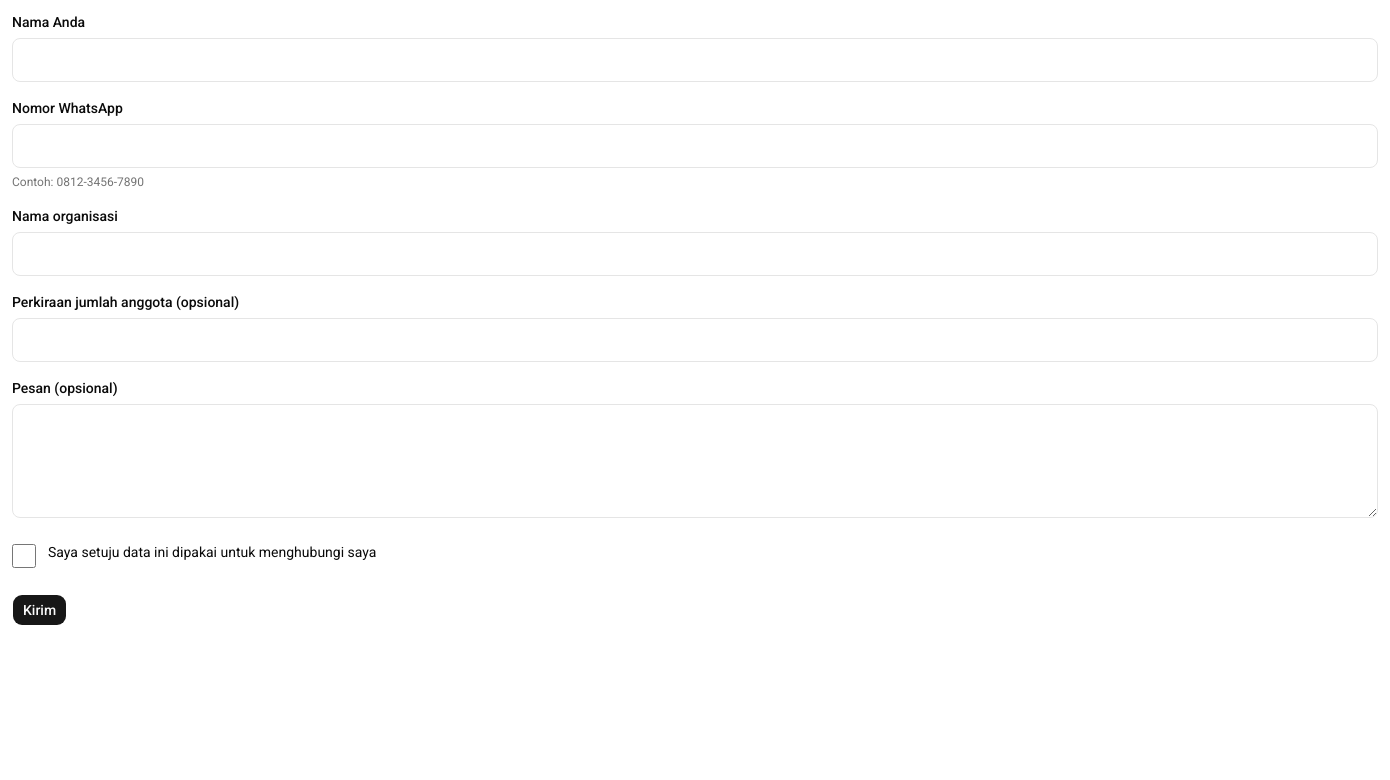
Test: InterestForm › shows the server's rate limit message as a form-level alert and keeps the typed values
Type "Budi" into the field labelled "Nama Anda" at (695, 60), box [12,38,1378,82]
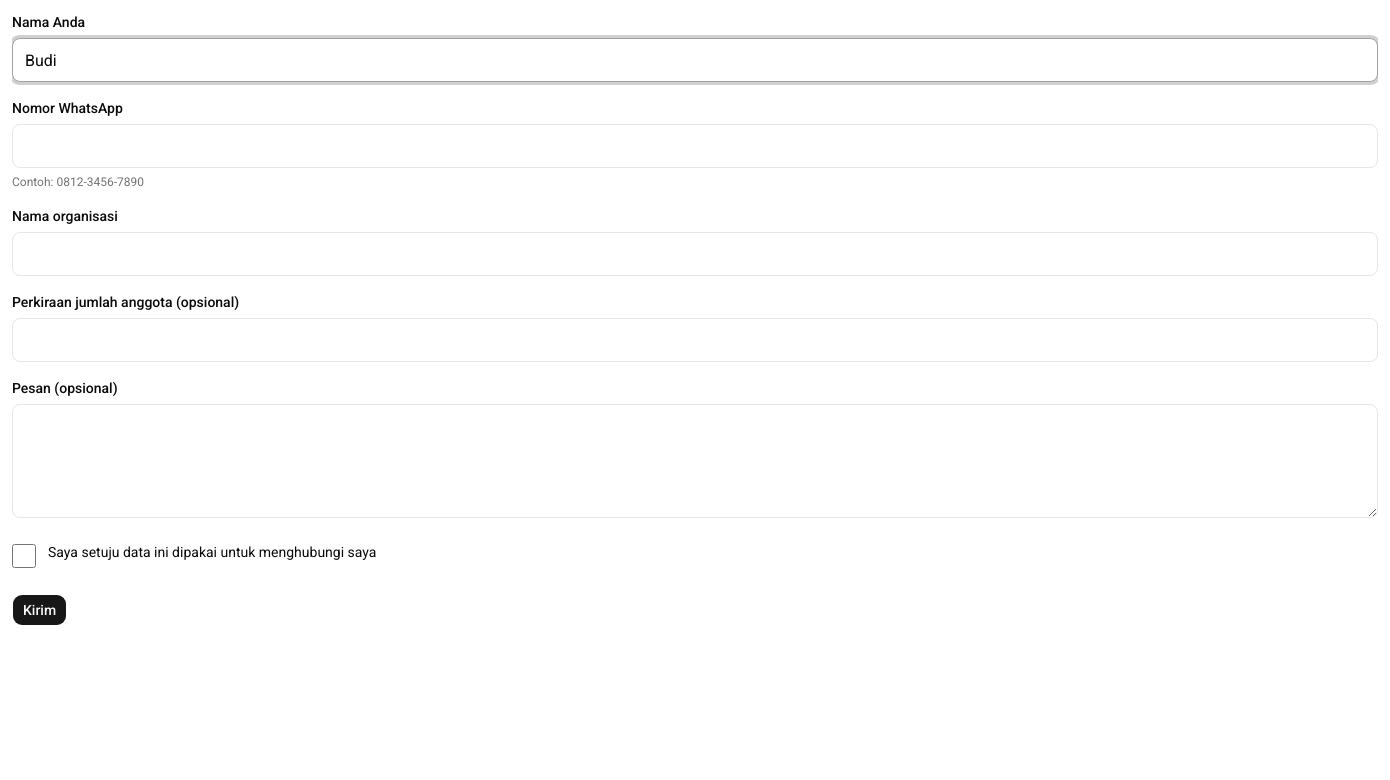
Type "0812-3456-7890" into the field labelled "Nomor WhatsApp" at (695, 146), box [12,124,1378,168]
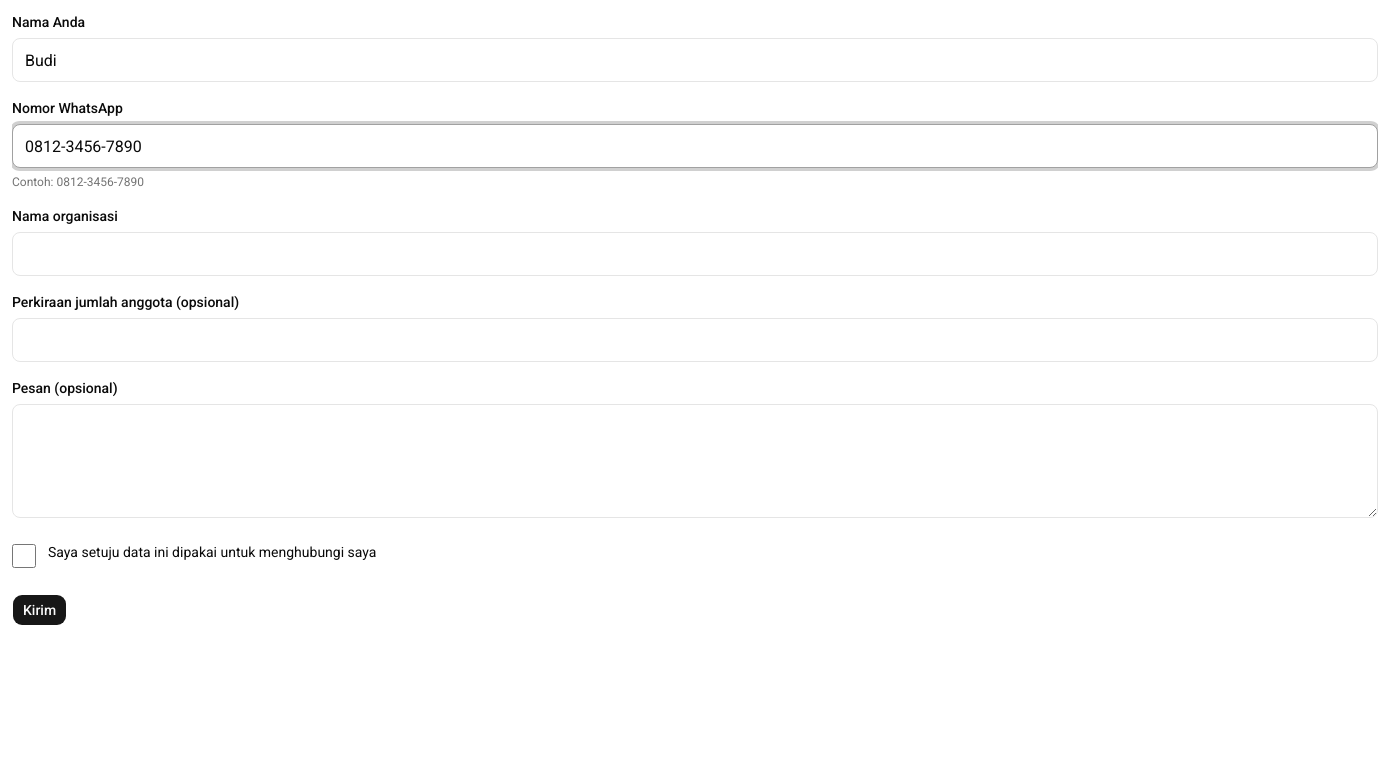
Type "Majelis An-Nur" into the field labelled "Nama organisasi" at (695, 254), box [12,232,1378,276]
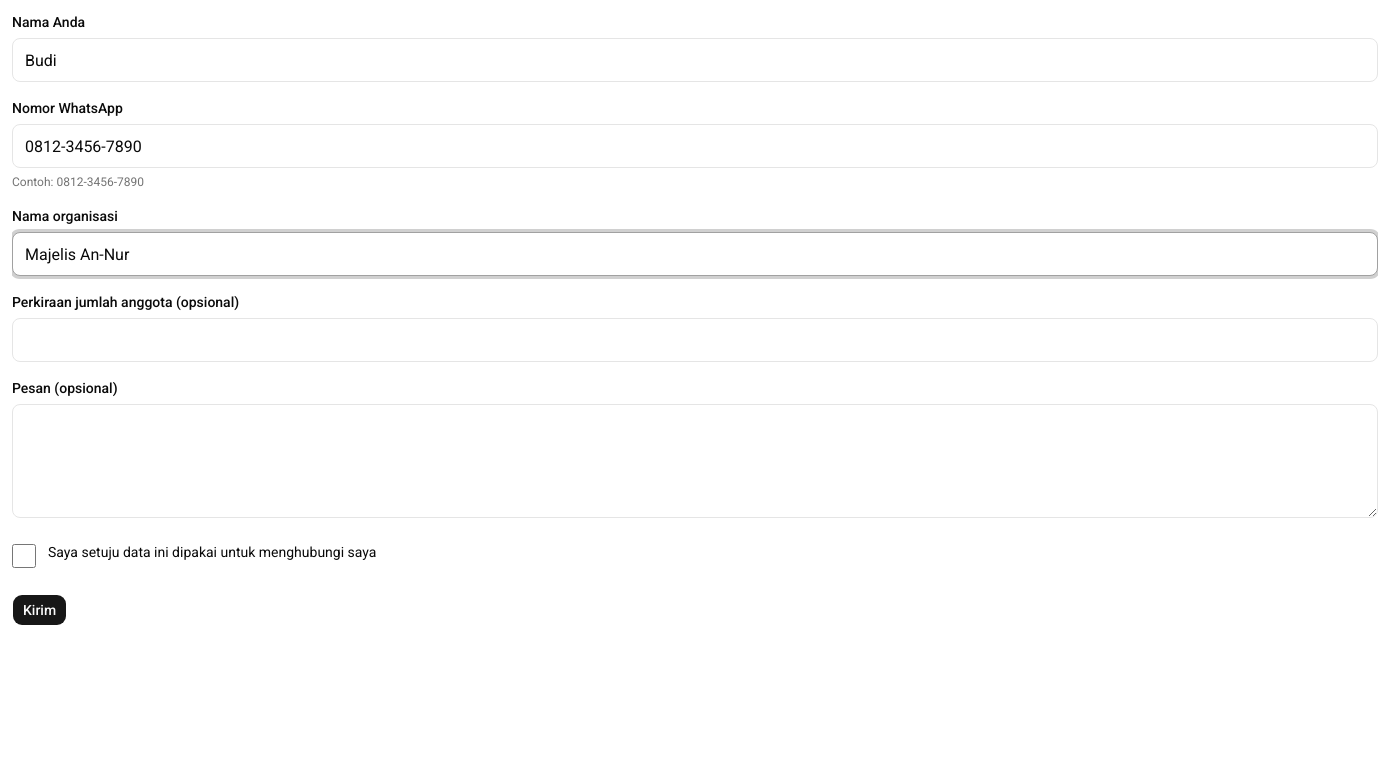
Click the checkbox labelled "Saya setuju data ini dipakai untuk menghubungi saya" at (24, 556), box [12,544,36,568]
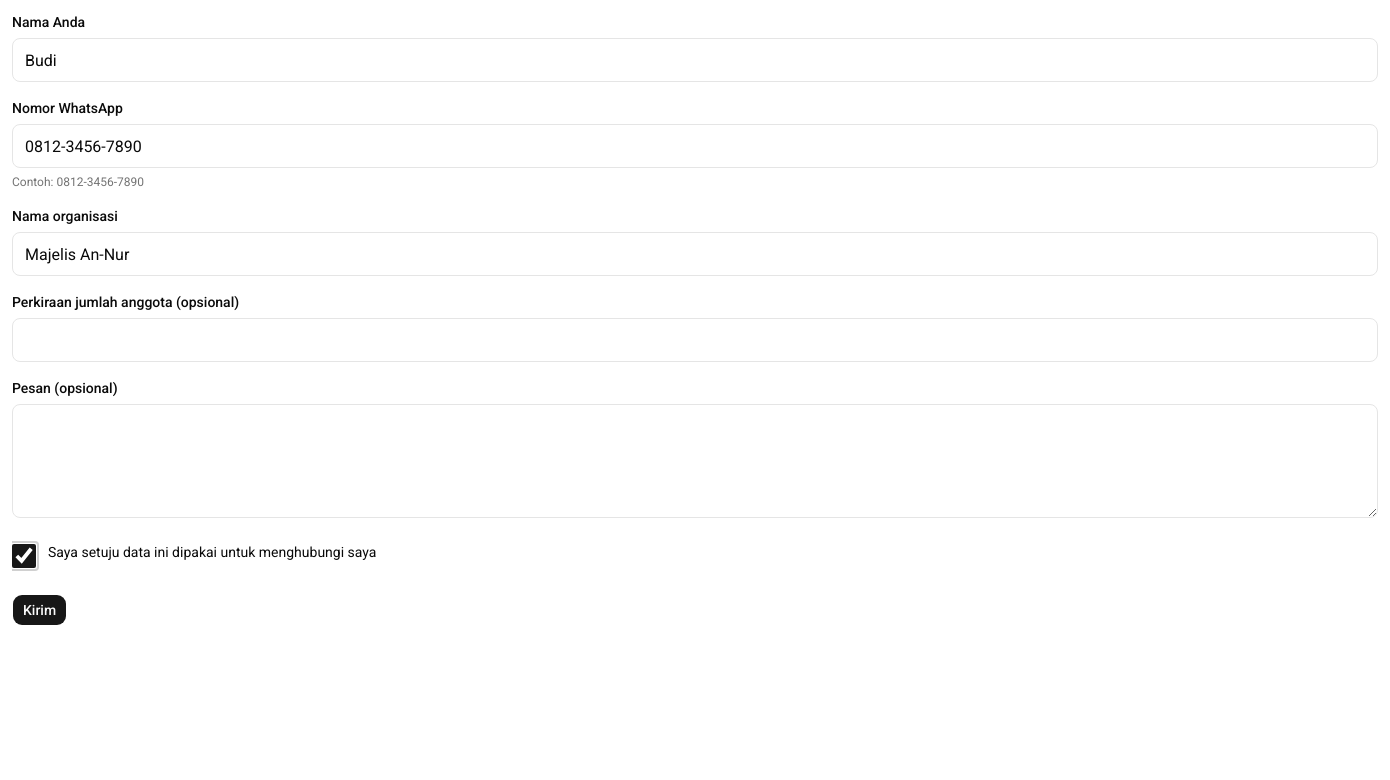
Click the button "Kirim" at (40, 610), box [12,594,67,626]
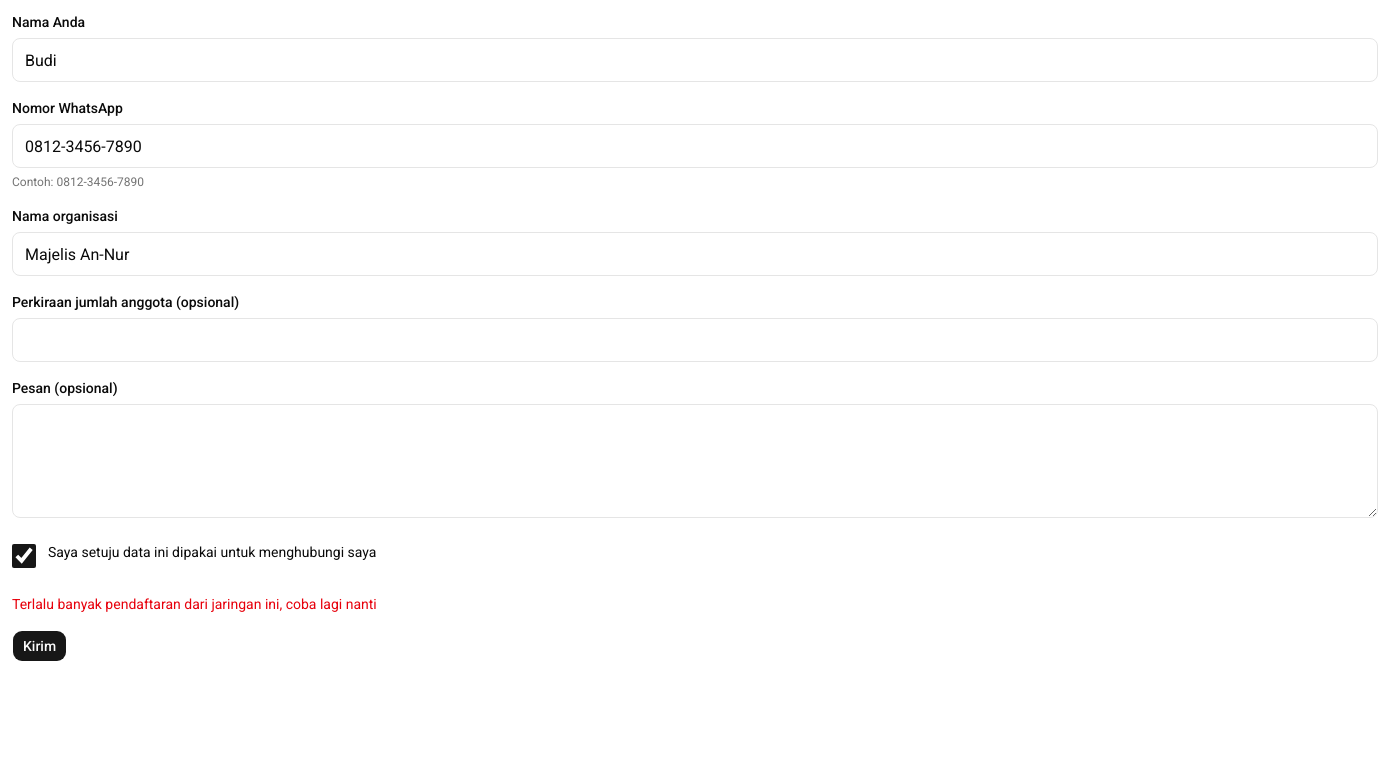
Expected: the button "Kirim" is enabled, [12,630,67,662]
Expected: the message reads "Terlalu banyak pendaftaran dari jaringan ini, coba lagi nanti", [12,596,377,612]
